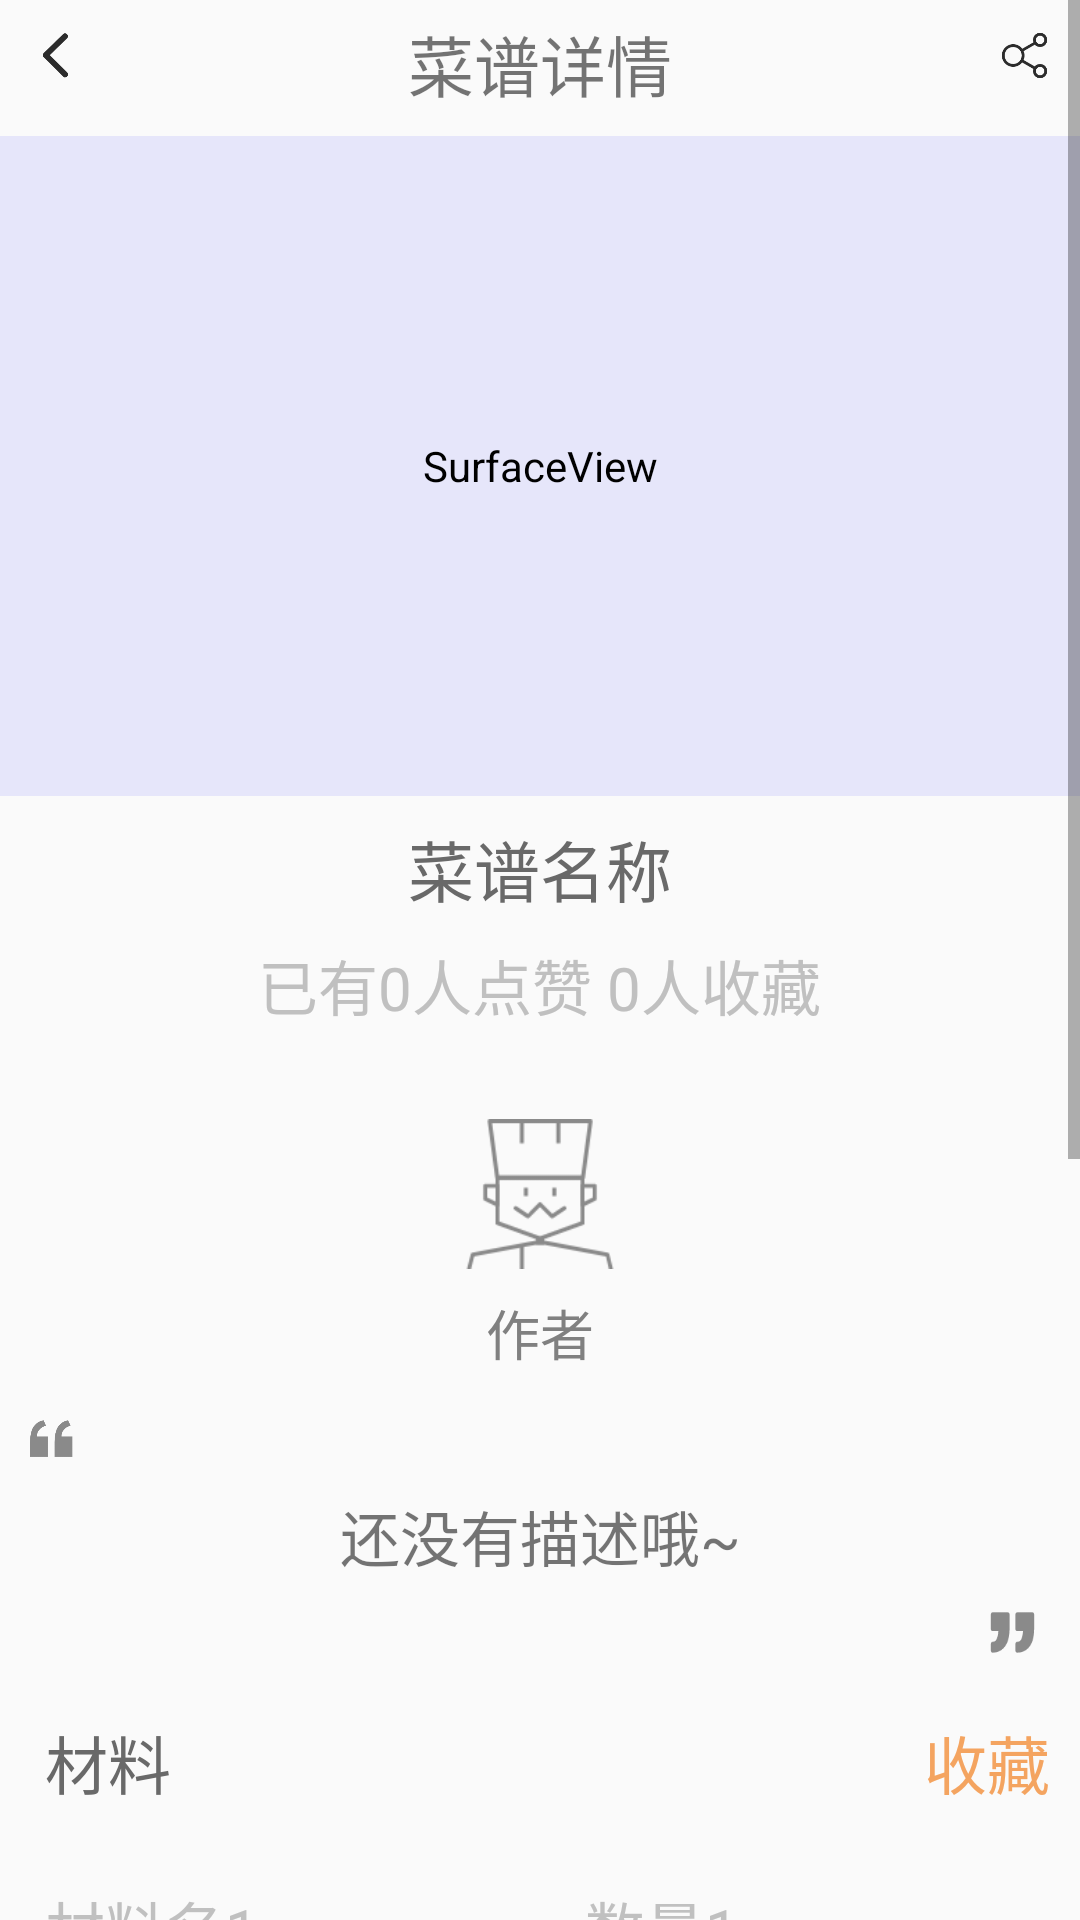

Screen size 1080 × 1920. Icon name, then its center in pixels as (x,y):
cook: (540,1194)
left: (55,55)
left quote: (51,1438)
right quote: (1012,1632)
share: (1024,55)
